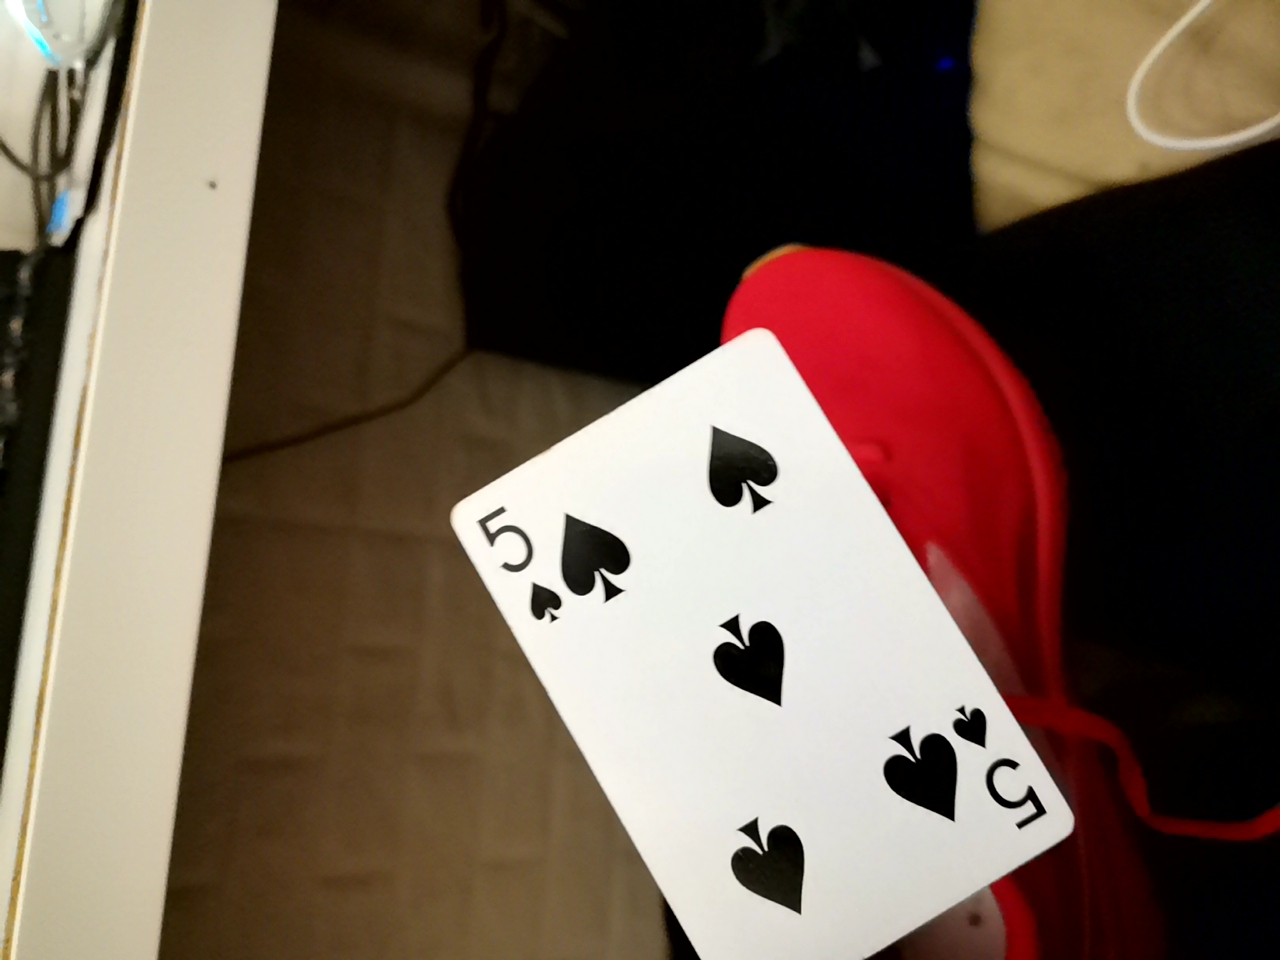ht 5: (444, 316, 1070, 959)
